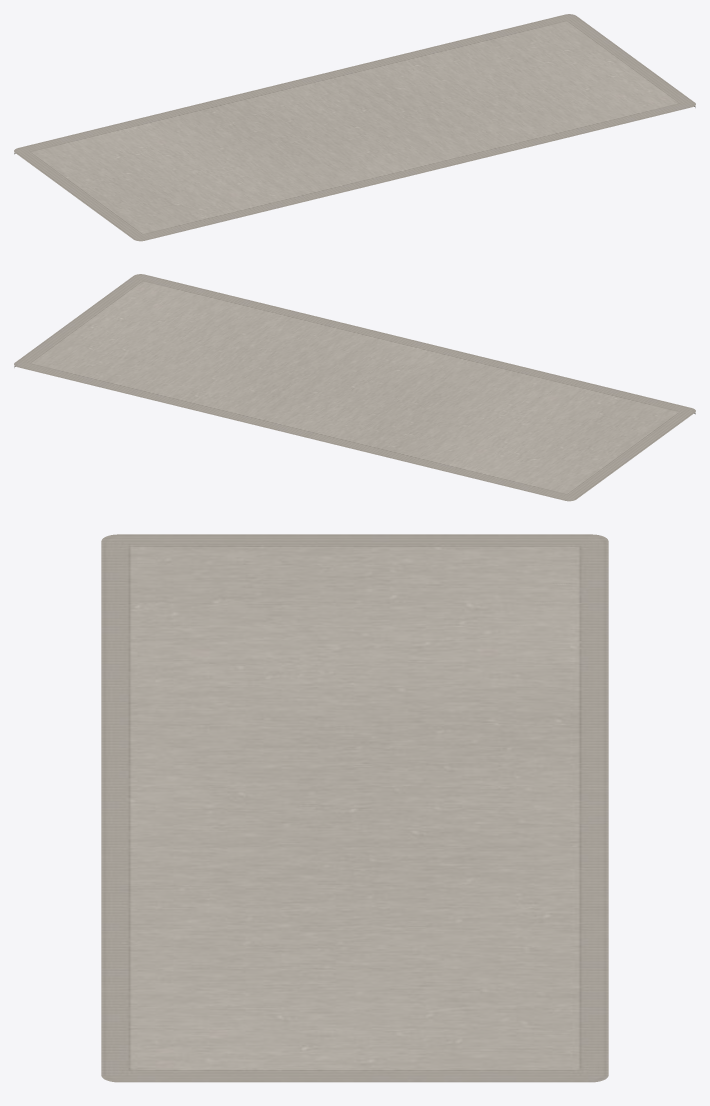
Rendered from beige_kitchen_r90.glb.
3 renders of one model, top to bottom at view 1: azimuth 30°, elevation 25°; view 2: azimuth 150°, elevation 25°; view 3: azimuth 270°, elevation 25°, orthographic. The views are drawn at different scales.
Visible parts, largest first — view 1: reliv_beige_kitchen_r90; view 2: reliv_beige_kitchen_r90; view 3: reliv_beige_kitchen_r90.
Part boxes in pixels (left/top/right/bottom): reliv_beige_kitchen_r90: left=14, top=14, right=695, bottom=241; reliv_beige_kitchen_r90: left=14, top=274, right=695, bottom=501; reliv_beige_kitchen_r90: left=101, top=534, right=608, bottom=1082.
Size of the model in its own units: 1.15 by 0.009 by 0.45.
Materials: 2 (1 with a texture image).
